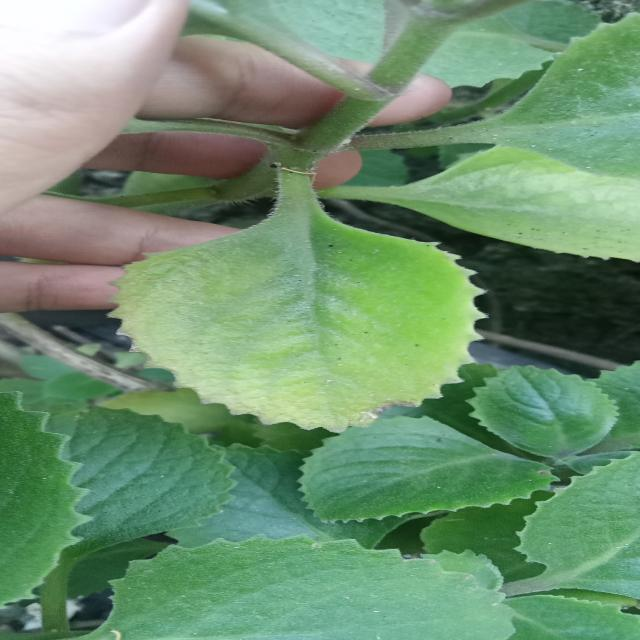Oregano: (114, 222, 500, 443)
